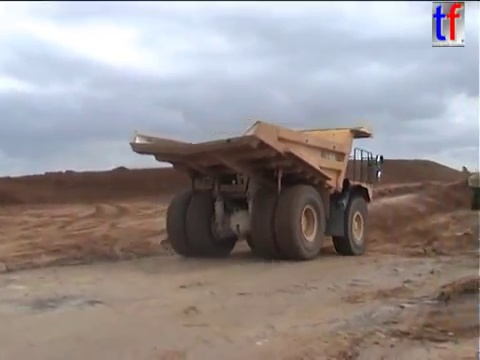truck: (127, 118, 386, 263), (466, 170, 480, 212)
